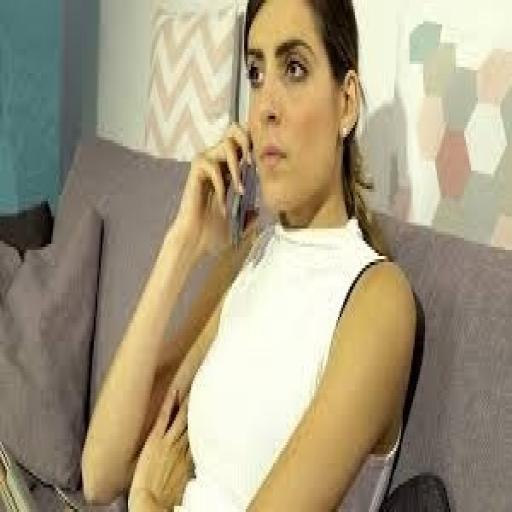calling: (79, 0, 430, 509)
